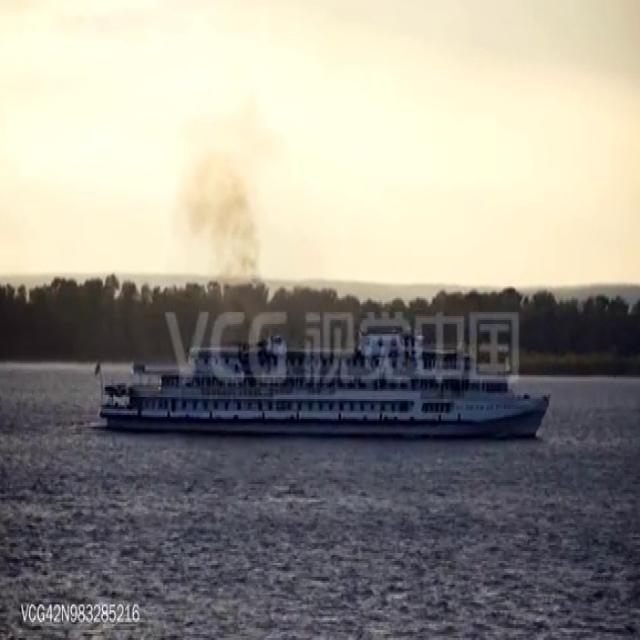passenger ship: (90, 326, 552, 444)
